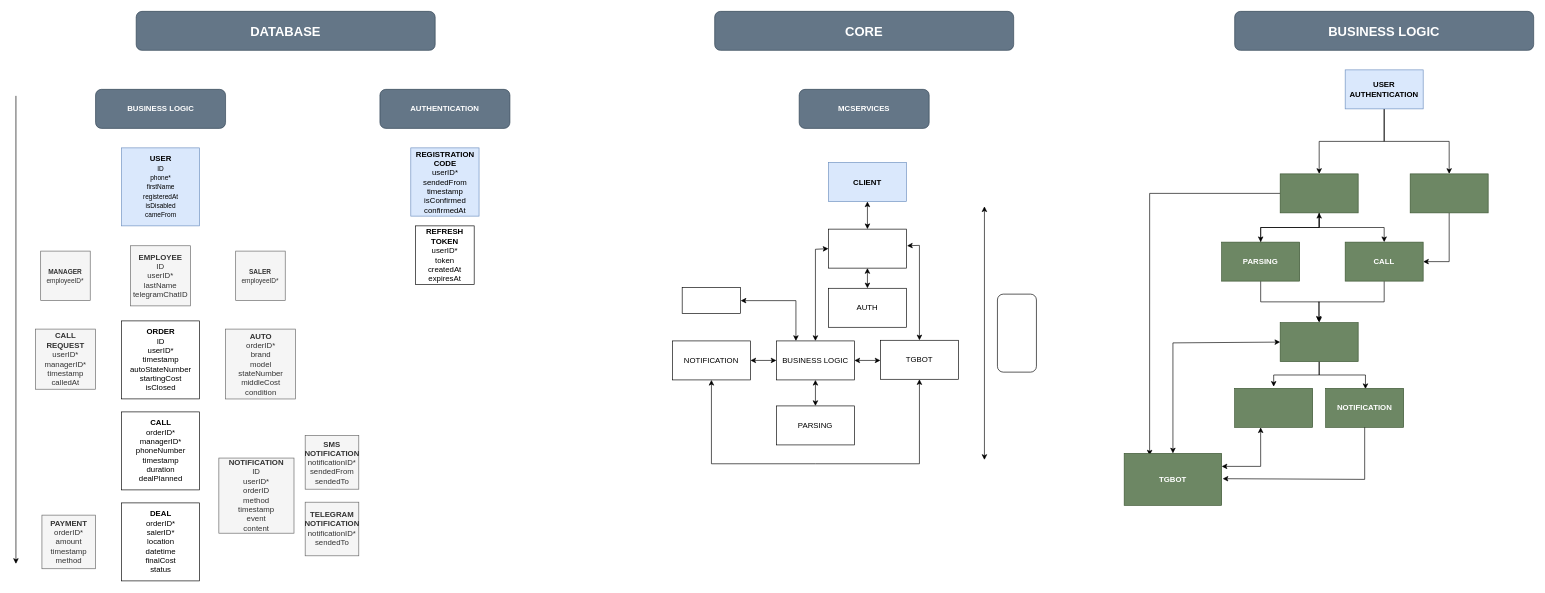
The diagram is 1545 pixels wide and 593 high, and some of its shapes have lost their labels. The shapes that lost their labels are listed below. From the top down, each one's centre as x and y in pixels, then its label:
At (1319,193): "ORDER".
At (1449,193): "CALL REQUEST".
At (867,248): "API GATEWAY".
At (711,300): "ADMIN PANEL".
At (1016,332): "RABBITMQ HTTP".
At (1319,342): "DEAL".
At (1273,407): "PAYMENT".
